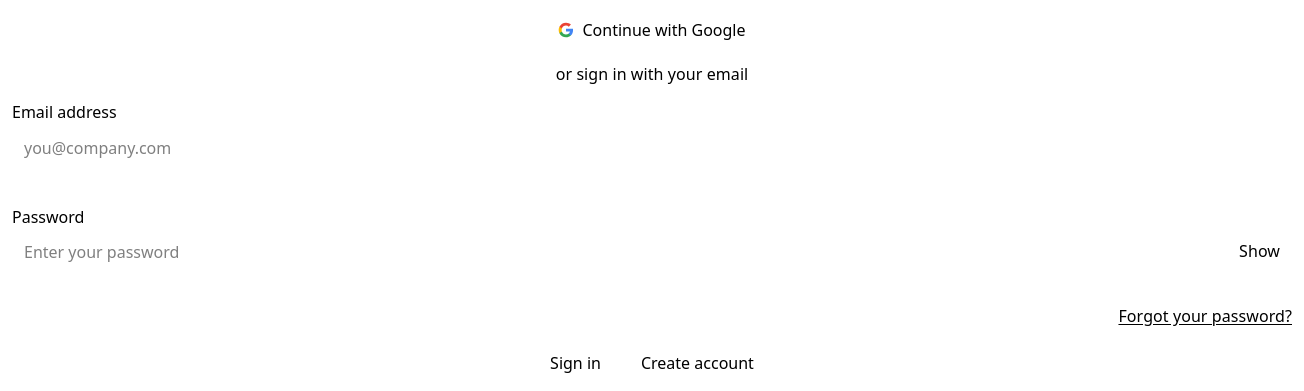
Test: AuthForm password reset request › asks for the email before sending
This screenshot has width=1304, height=391.
Click the button "Forgot your password?" at [1205, 316], box [1118,306,1292,327]
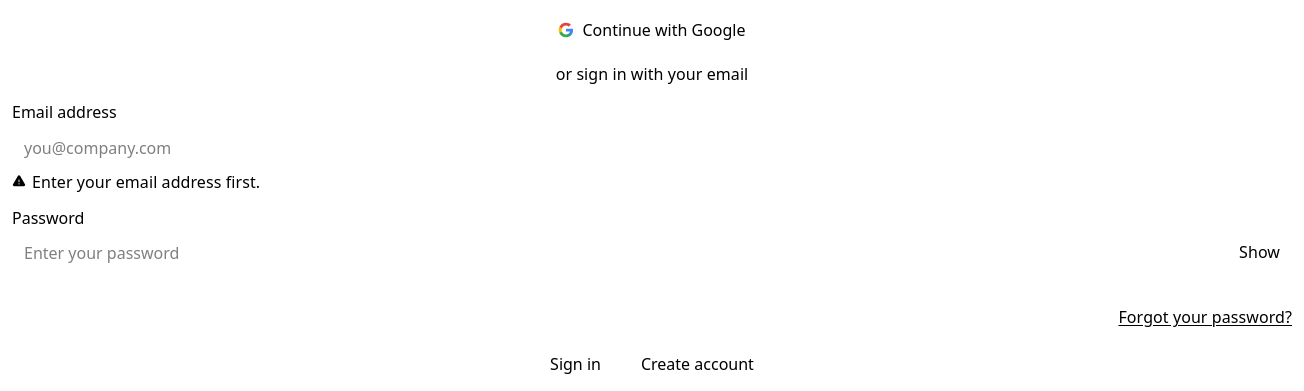
Result: the text "Enter your email address first." is shown at [32,172,260,193]
